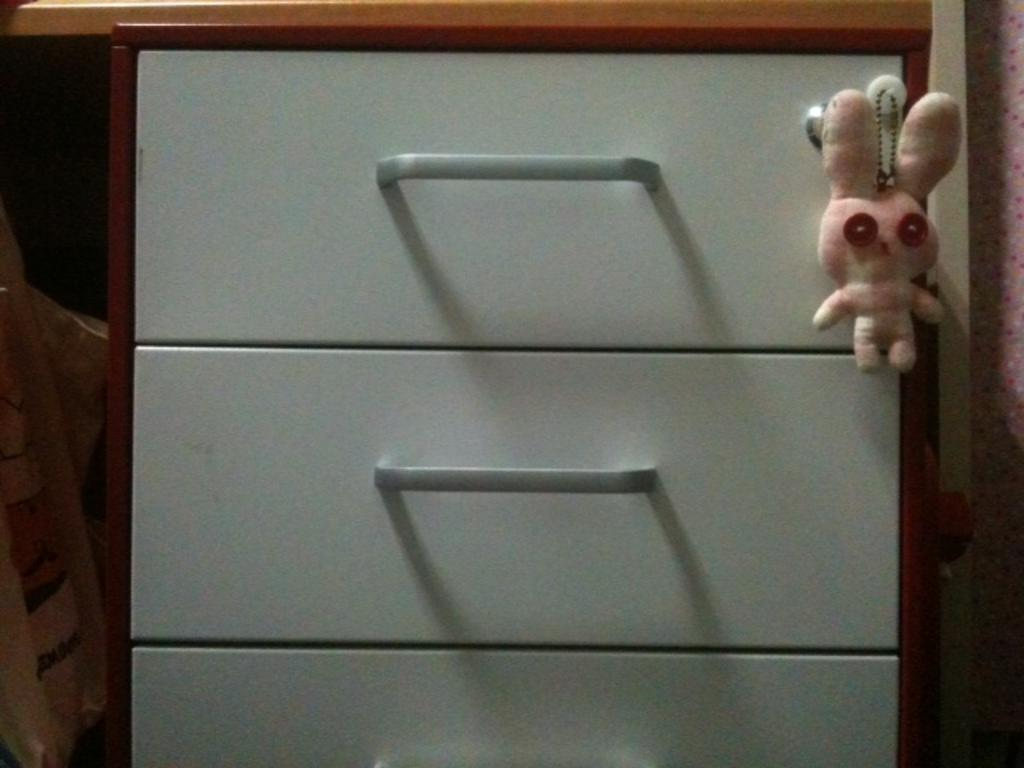cabinet_door: (138, 356, 896, 648), (142, 56, 892, 342), (129, 655, 897, 768)
handle: (372, 447, 658, 506), (362, 150, 664, 198)
